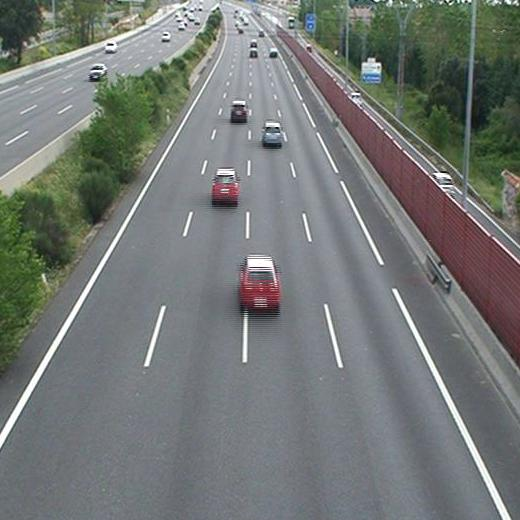car: (239, 256, 280, 307), (212, 171, 239, 200), (262, 121, 282, 144), (231, 100, 248, 120), (248, 48, 259, 57), (269, 48, 279, 56)
